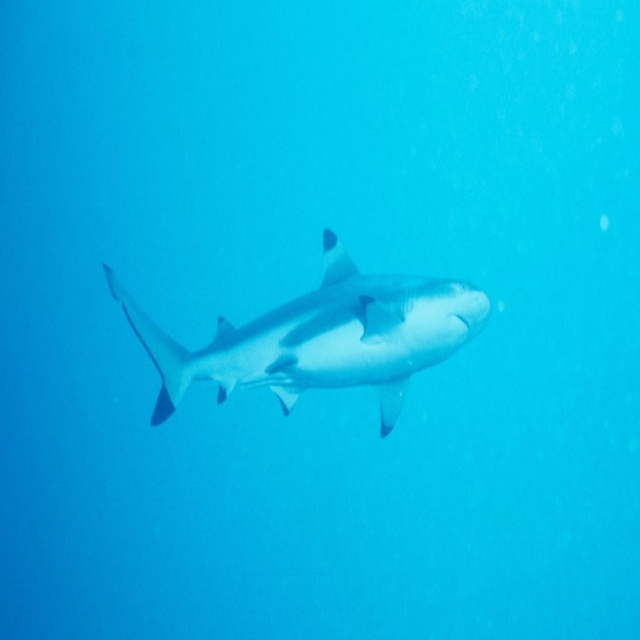Shark: (104, 228, 489, 429)
